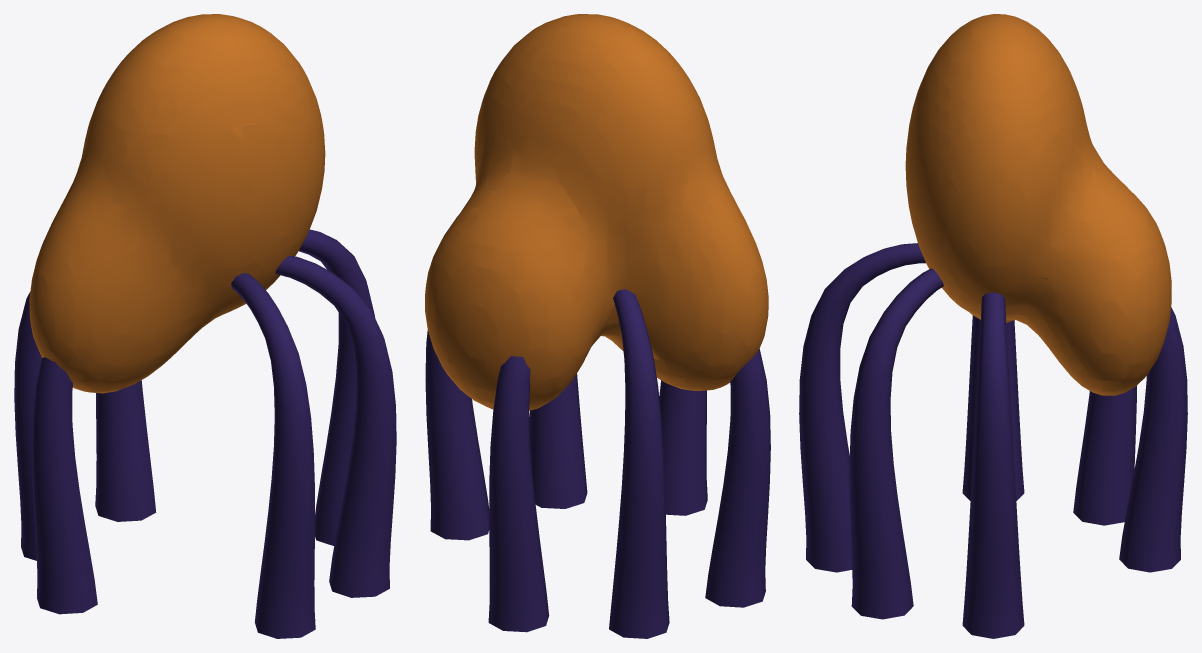
Rendered from Tree_Blob_1-transformed.glb.
3 views of the same model, side by side, from view 1: azimuth 30°, elevation 25°; view 2: azimuth 150°, elevation 25°; view 3: azimuth 270°, elevation 25° (orthographic).
Parts seen in each view (by area): view 1: Tree_Blob_1; view 2: Tree_Blob_1; view 3: Tree_Blob_1.
Boxes of the visible parts, <box> form: Tree_Blob_1: <box>14,14,396,638</box>; Tree_Blob_1: <box>425,14,770,638</box>; Tree_Blob_1: <box>799,14,1187,638</box>.
Bounding box in the file's own units: 3.86 × 5.88 × 3.86.
Materials: 1 (1 with a texture image).
